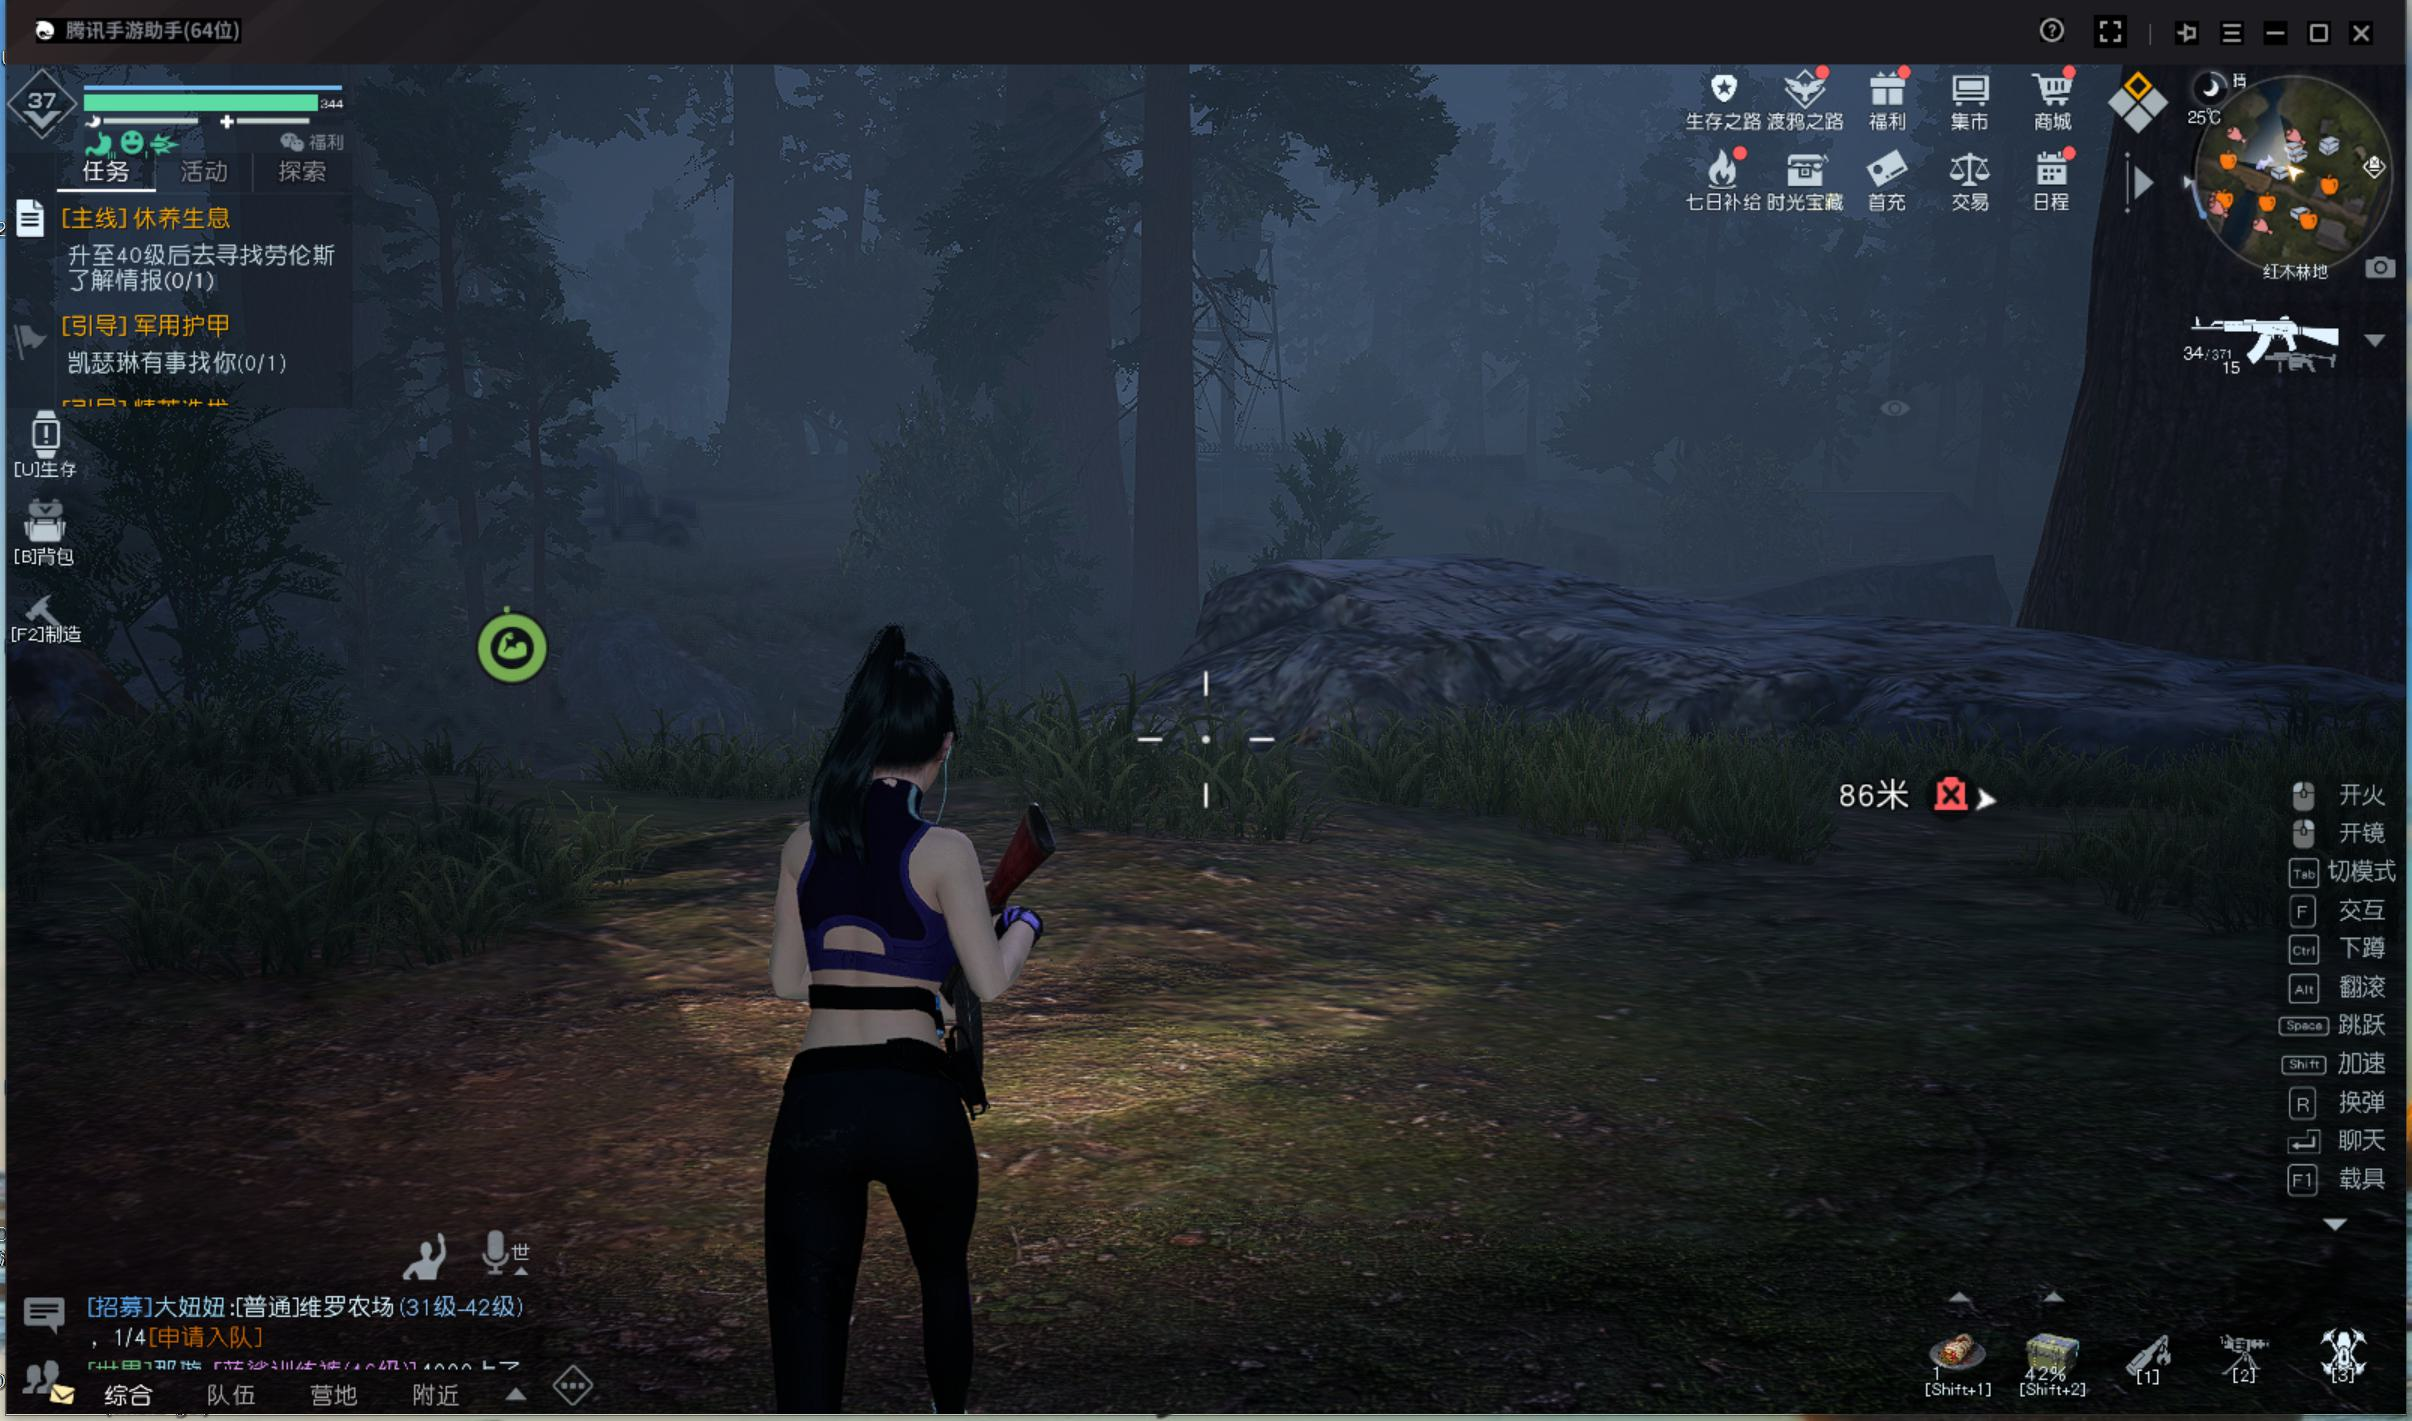tree: (717, 122, 812, 502), (1133, 237, 1209, 700)
